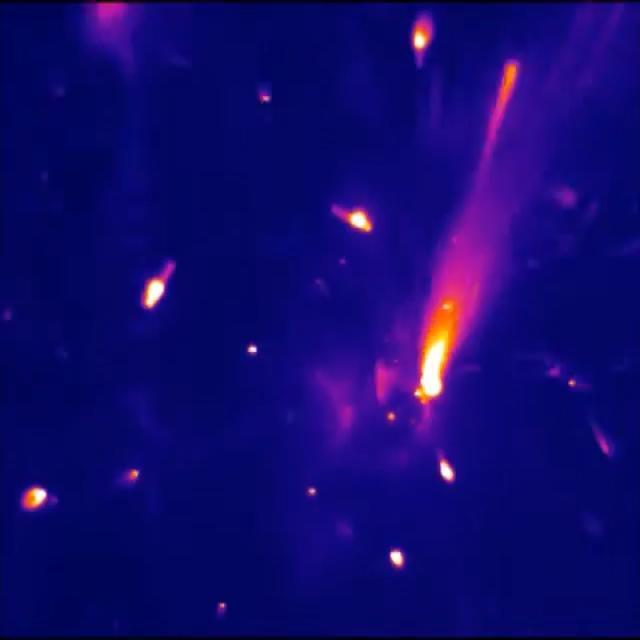fire: (411, 294, 458, 408), (144, 258, 177, 314), (335, 202, 377, 238), (20, 481, 55, 513), (411, 18, 434, 63), (439, 457, 462, 487), (388, 545, 409, 574)
